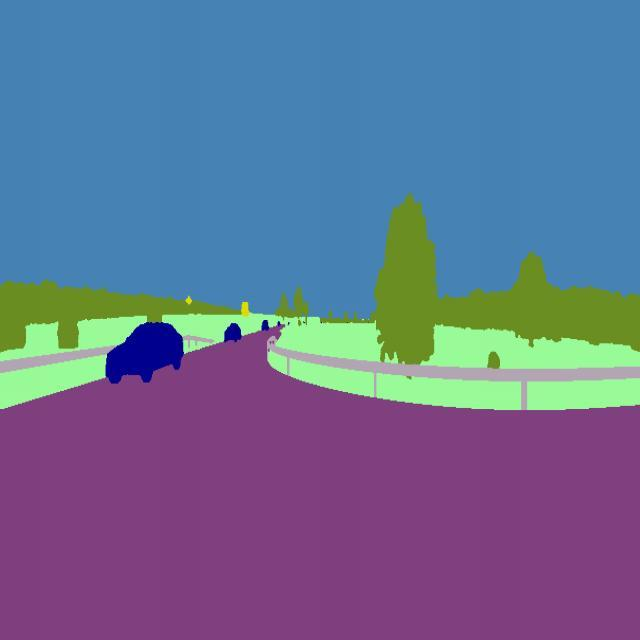safe: (106, 320, 186, 384), (222, 320, 244, 344), (259, 317, 272, 333)
